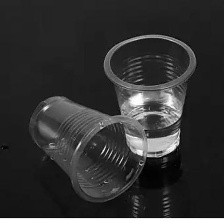glass: (99, 19, 200, 166), (27, 90, 150, 205)
